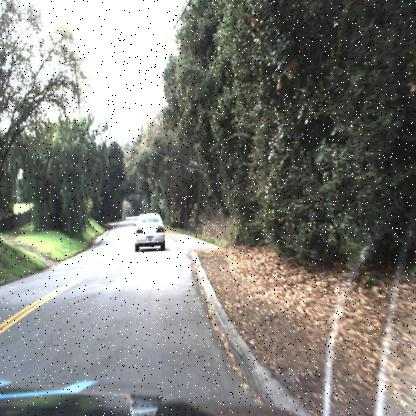car: (127, 208, 168, 254)
